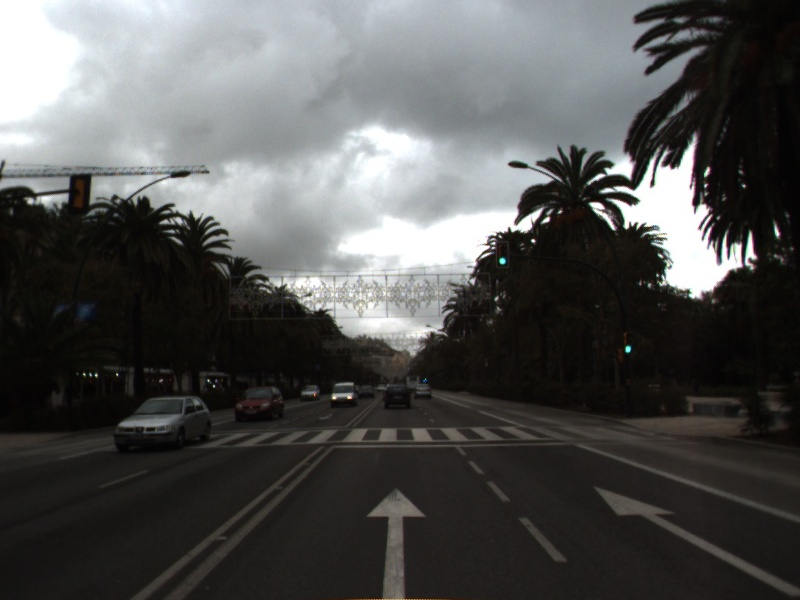STRAIGHT: (590, 482, 800, 596), (363, 484, 430, 600)
